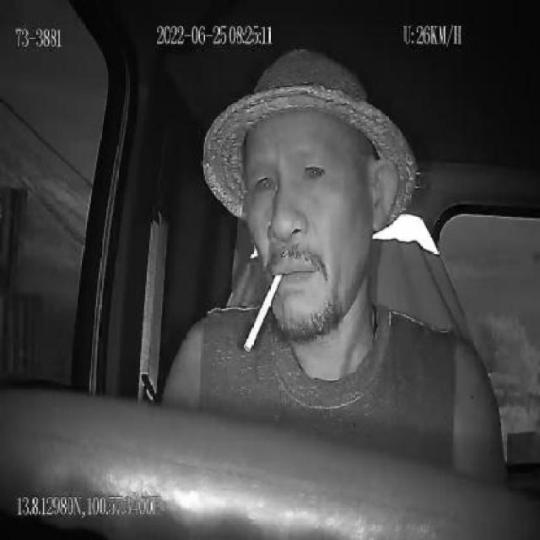smoking: (244, 270, 286, 356)
